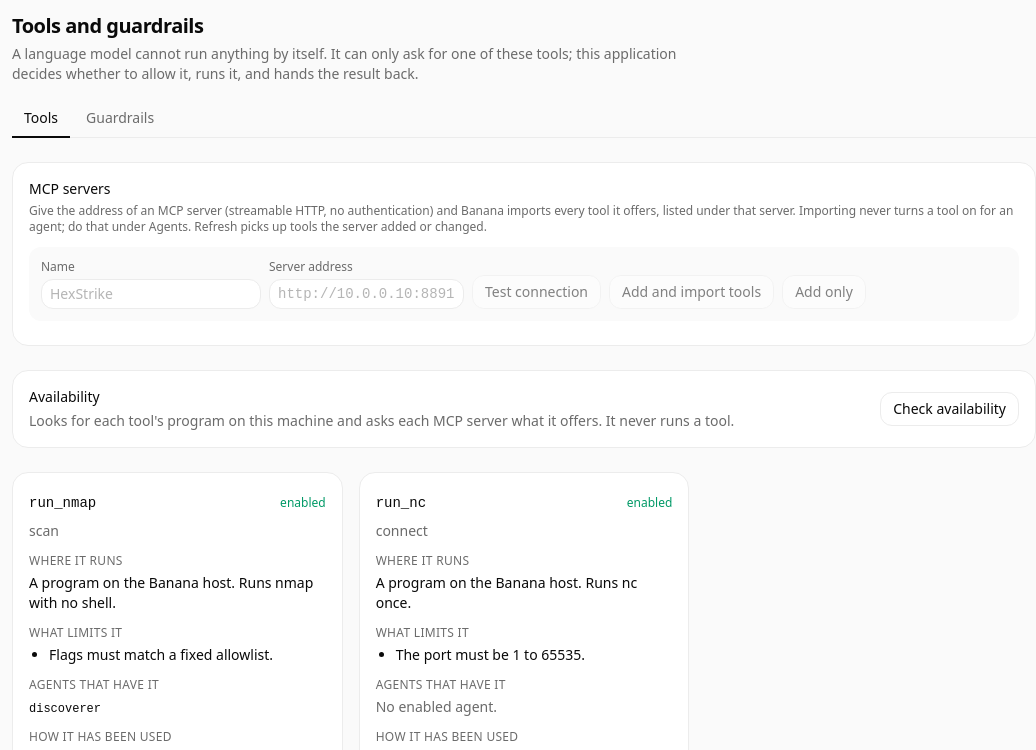
AiToolsPage availability › checks only on request, then flags each tool and lists the ones that cannot run
This screenshot has width=1036, height=750.
Step 1. Click the button "Check availability" → (950, 409), box [880, 392, 1019, 426]
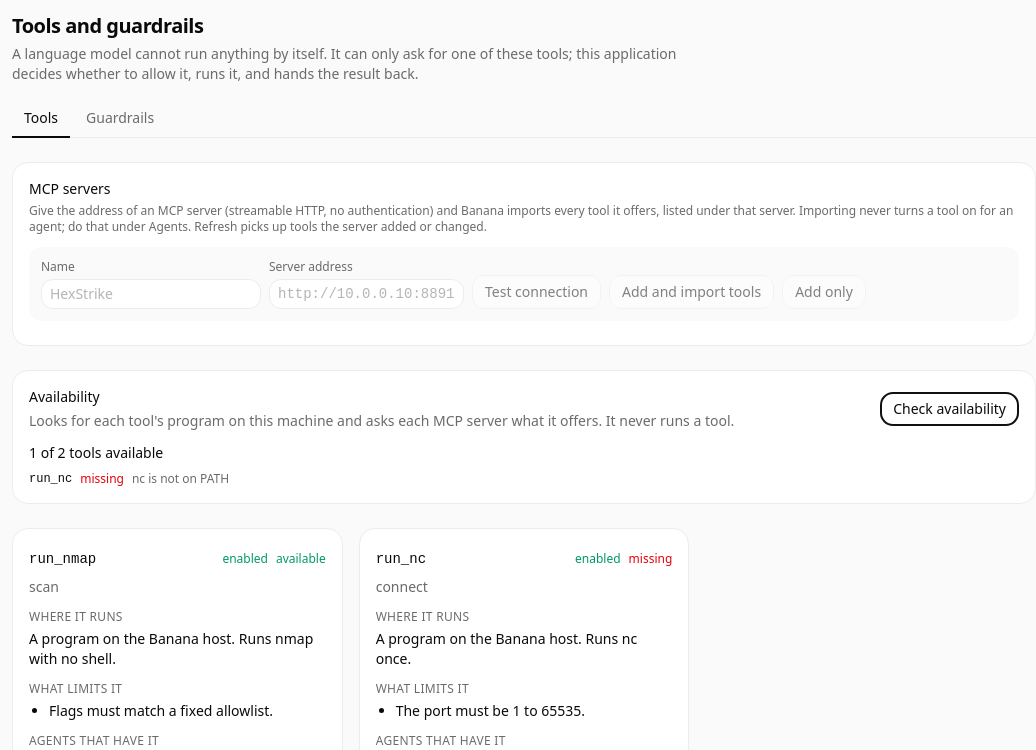
Check: the text "1 of 2 tools available" is shown, box [29, 443, 163, 462]
Check: the text "nc is not on PATH" is shown, box [132, 471, 229, 487]
Check: the text "available" is shown, box [276, 550, 326, 567]
